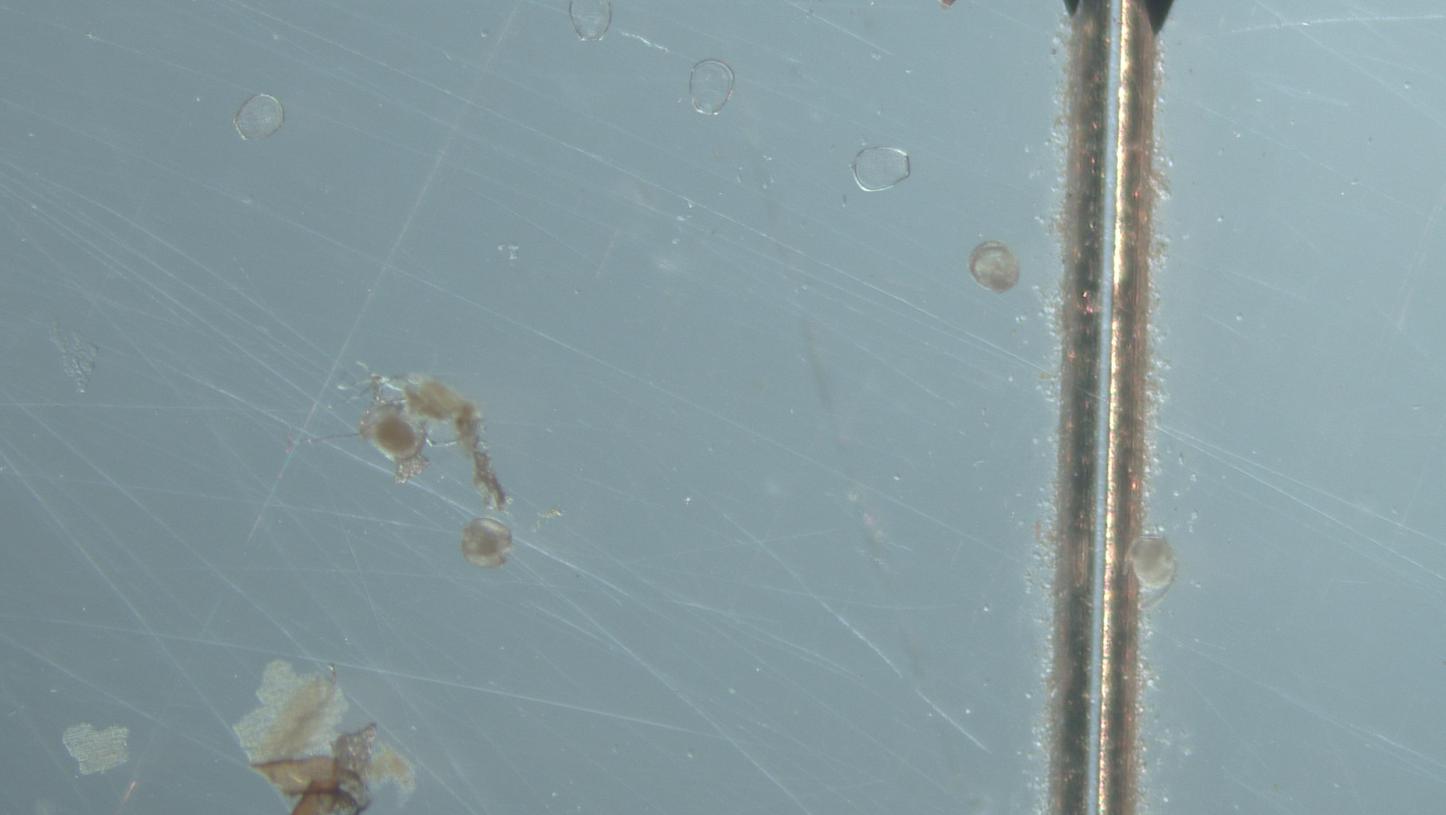dead: (851, 147, 910, 192), (690, 60, 735, 115), (234, 94, 284, 140), (570, 0, 611, 40)
live: (1126, 531, 1177, 609), (968, 241, 1019, 293), (461, 517, 513, 568), (372, 406, 420, 459)
